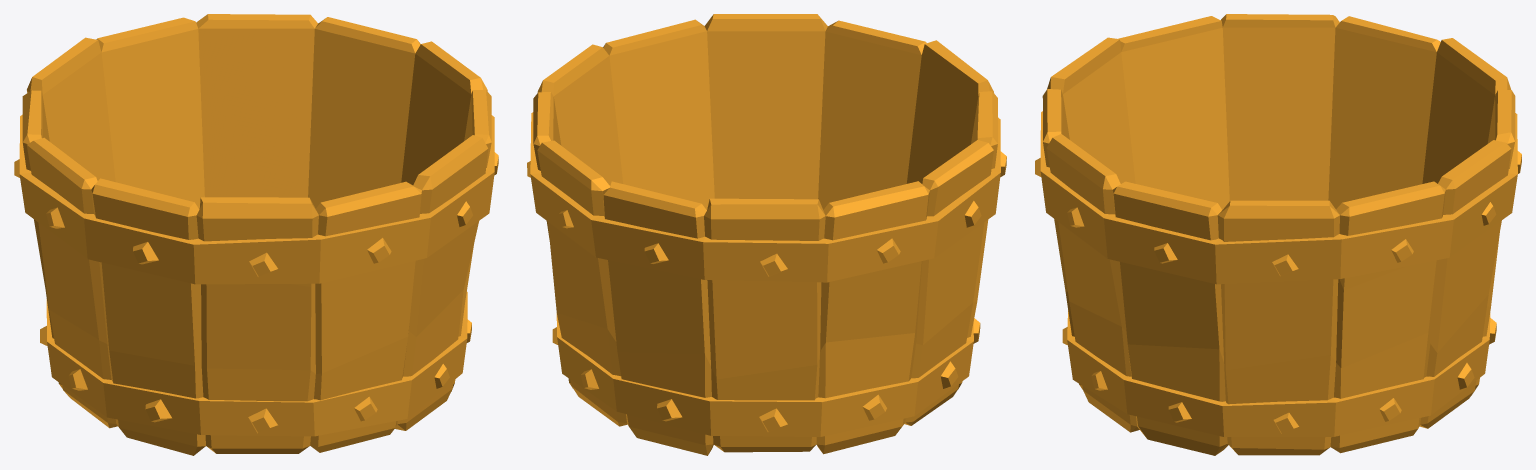
File: SM_Tub_A_Wooden_Fantasy.fbx
3 renders of one model, left to right at view 1: azimuth 30°, elevation 25°; view 2: azimuth 150°, elevation 25°; view 3: azimuth 270°, elevation 25°, orthographic.
Visible parts, largest first — view 1: tub-wooden-fantasy; view 2: tub-wooden-fantasy; view 3: tub-wooden-fantasy.
Part boxes in pixels (box(x1,y1,x2,y2)): tub-wooden-fantasy: box(14, 14, 498, 455); tub-wooden-fantasy: box(527, 14, 1006, 455); tub-wooden-fantasy: box(1035, 14, 1521, 455).
Bounding box in the file's own units: 0.7099 × 0.4386 × 0.7099.
